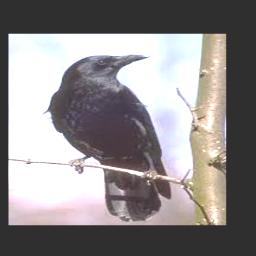Crow: (43, 54, 171, 222)
